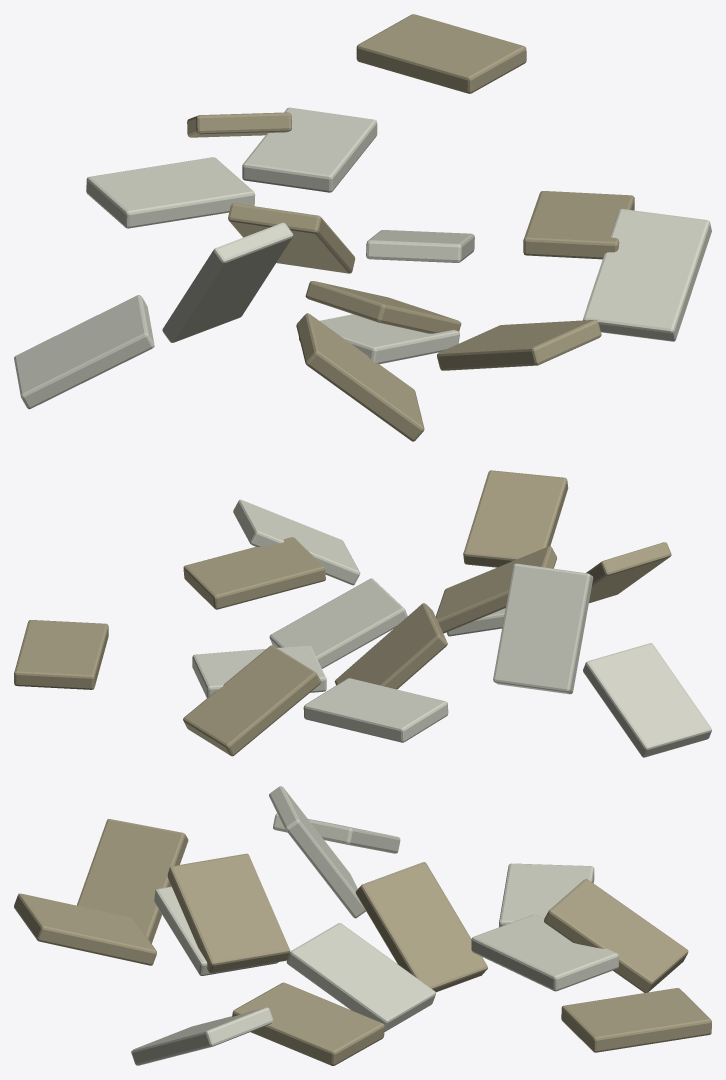
Rendered from trash.glb.
3 renders of one model, top to bottom at view 1: azimuth 30°, elevation 25°; view 2: azimuth 150°, elevation 25°; view 3: azimuth 270°, elevation 25°, orthographic. The views are drawn at different scales.
Parts seen in each view (by area): view 1: trash.001; view 2: trash.001; view 3: trash.001.
Part boxes in pixels (x1=…): trash.001: x1=14, y1=14, x2=711, y2=441; trash.001: x1=14, y1=470, x2=711, y2=757; trash.001: x1=14, y1=786, x2=711, y2=1065.
Bounding box in the file's own units: 2.37 × 0.4772 × 2.43.
